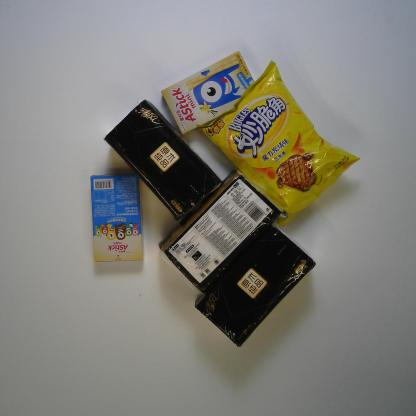Dessert: (160, 50, 255, 136), (89, 172, 144, 264)
Puffed Food: (196, 58, 362, 230)
Tissue: (156, 168, 283, 294), (192, 223, 316, 348), (103, 98, 223, 222)
